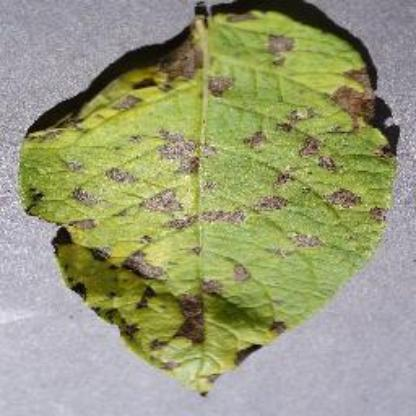Early-Blight: (16, 7, 404, 395)
